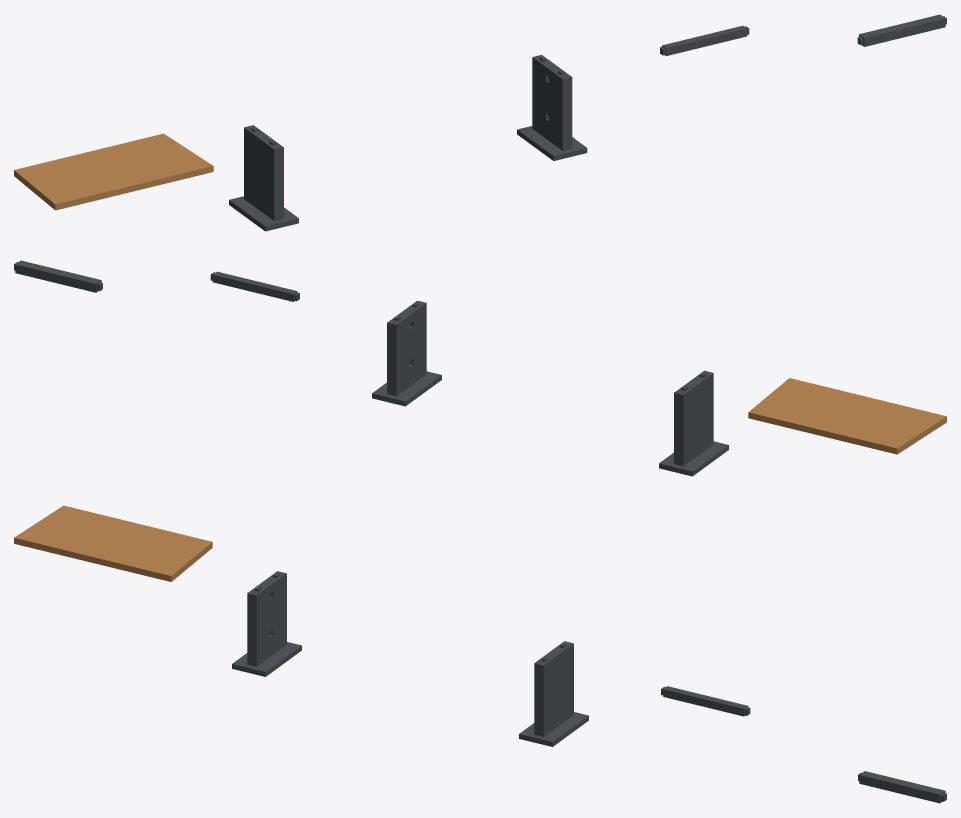
The model's file is exploded.glb.
3 views of the same model, one above another, from view 1: azimuth 30°, elevation 25°; view 2: azimuth 150°, elevation 25°; view 3: azimuth 330°, elevation 25° (orthographic).
Parts seen in each view (by area): view 1: tabletop_mesh, right_pedestal_mesh, left_pedestal_mesh, lower_brace_mesh, upper_brace_mesh; view 2: tabletop_mesh, right_pedestal_mesh, left_pedestal_mesh, lower_brace_mesh, upper_brace_mesh; view 3: tabletop_mesh, left_pedestal_mesh, right_pedestal_mesh, lower_brace_mesh, upper_brace_mesh.
Boxes of the visible parts, <box> form: tabletop_mesh: <box>14,133,213,210</box>; right_pedestal_mesh: <box>517,55,587,160</box>; left_pedestal_mesh: <box>229,125,298,231</box>; lower_brace_mesh: <box>857,14,946,46</box>; upper_brace_mesh: <box>660,25,749,56</box>; tabletop_mesh: <box>748,378,946,454</box>; right_pedestal_mesh: <box>372,300,441,406</box>; left_pedestal_mesh: <box>659,370,728,476</box>; lower_brace_mesh: <box>14,260,102,292</box>; upper_brace_mesh: <box>210,271,299,301</box>; tabletop_mesh: <box>14,505,212,581</box>; left_pedestal_mesh: <box>232,571,301,676</box>; right_pedestal_mesh: <box>519,641,588,746</box>; lower_brace_mesh: <box>858,771,946,803</box>; upper_brace_mesh: <box>661,686,750,716</box>.
Bounding box in the file's own units: 8660 × 750 × 750.
